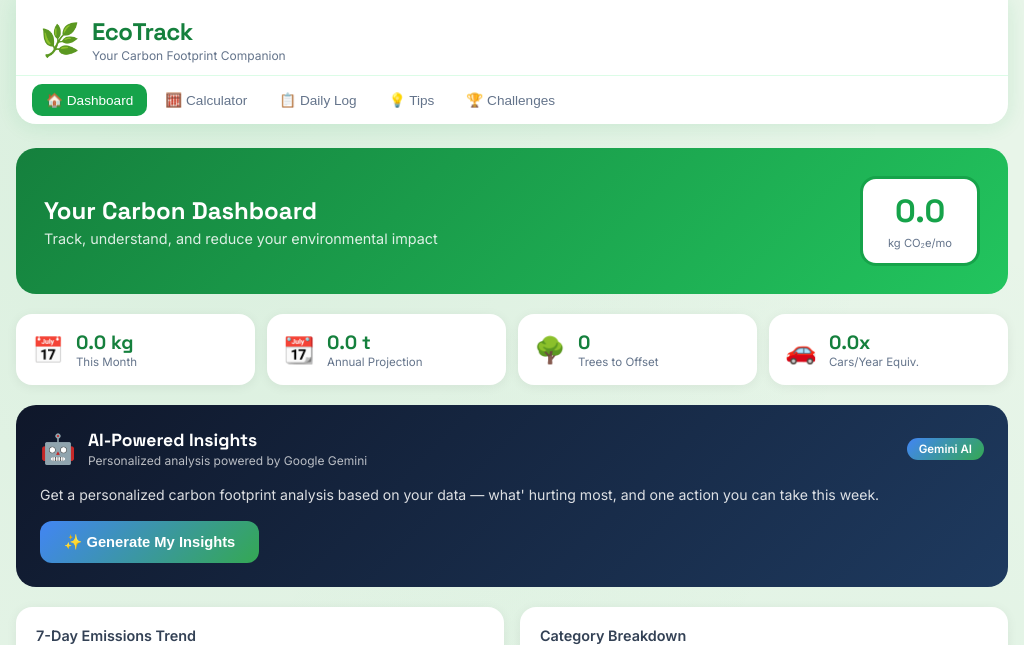
Scenario: Challenges interaction › can start a challenge
The width and height of the screenshot is (1024, 645).
Click the button "🏆 Challenges" at (511, 100), box [452,84,569,116]
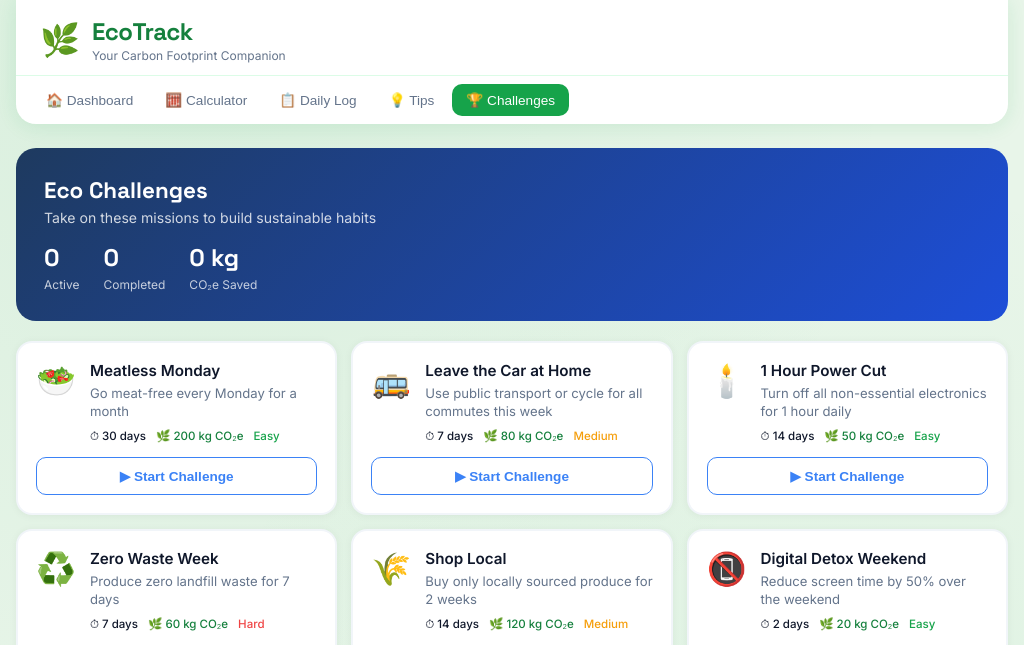
Click the 1st button "▶ Start Challenge" at (177, 476), box [36,457,317,495]
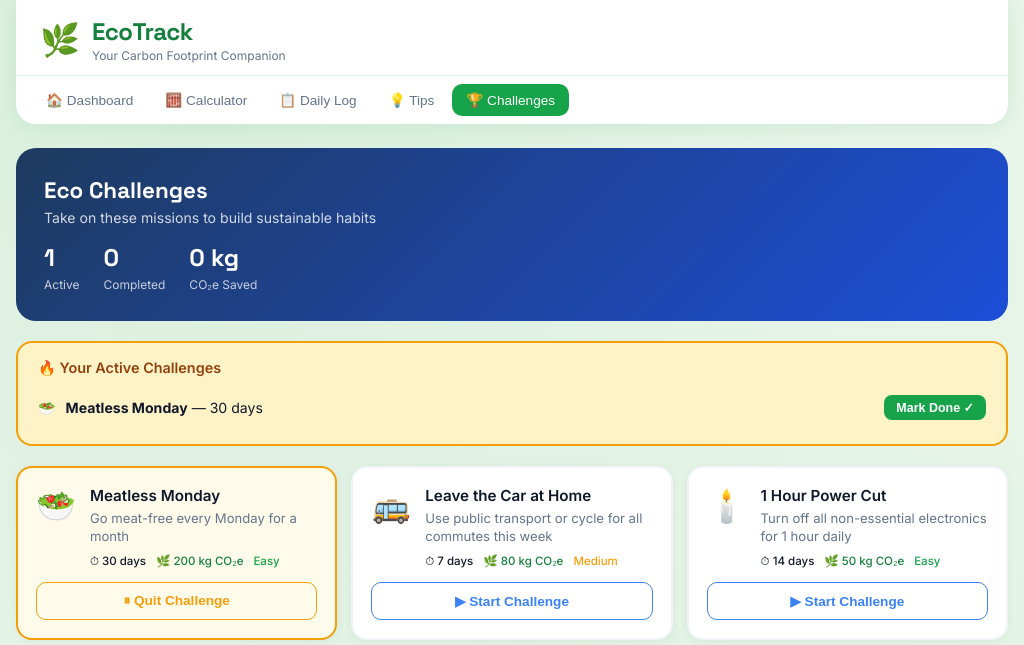
Check: the heading "🔥 Your Active Challenges" is shown, box [38,359,221,376]
